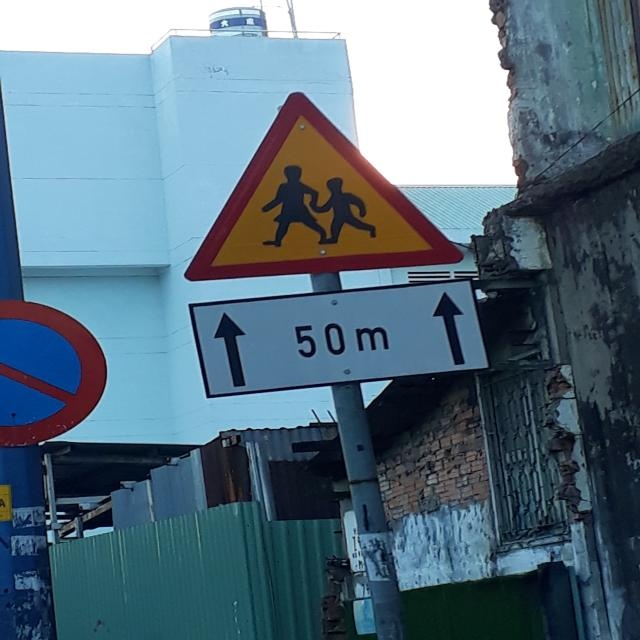bien_nguy_hiem: (182, 88, 471, 284), (184, 282, 491, 397)
